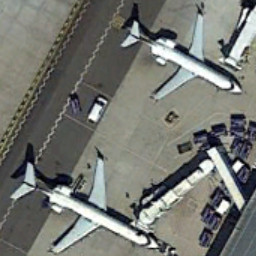Airplane: (5, 138, 166, 256), (116, 1, 247, 128)
